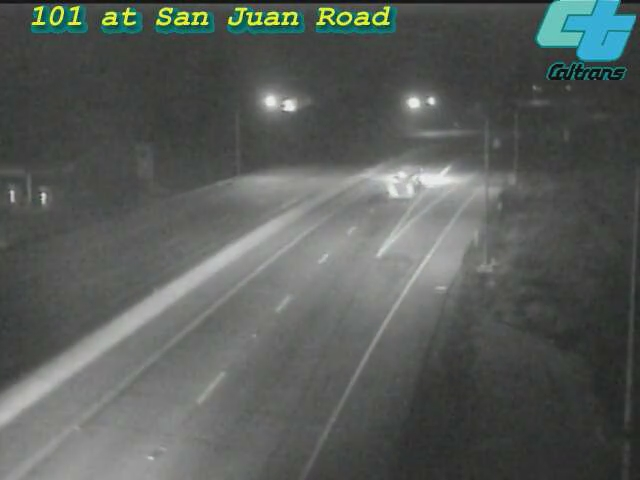vehicle: (368, 139, 448, 219)
